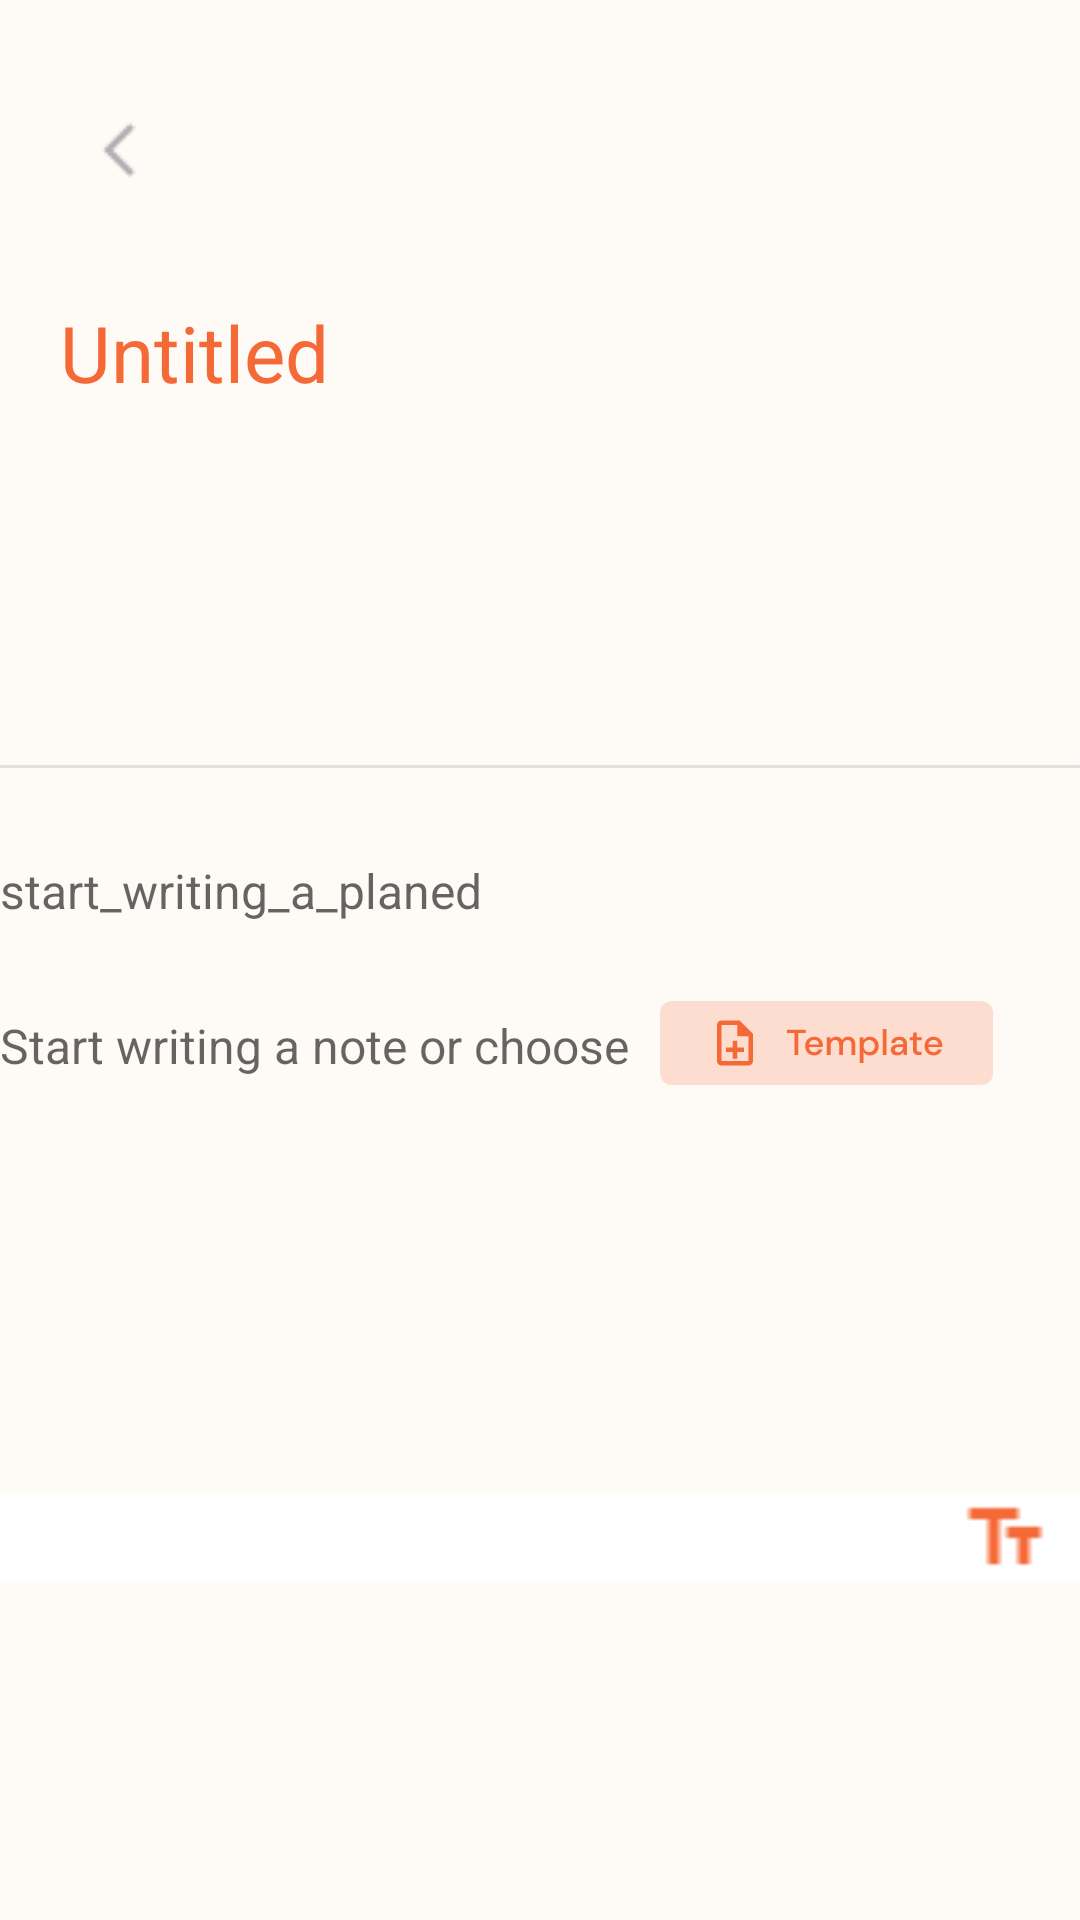

Point at icon controls on the screen. Image size 1080px x 1920px, points as point (x, y).
back: point (119, 150)
text fields: point (1005, 1536)
